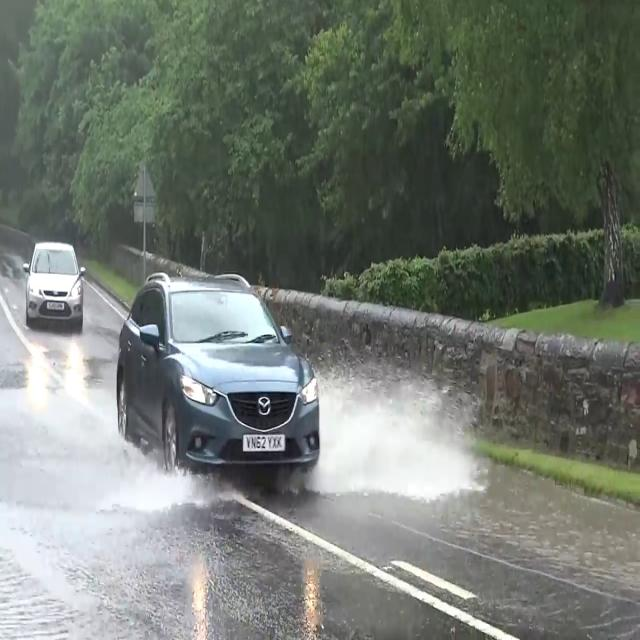license-plate-annotation: (240, 430, 289, 456)
